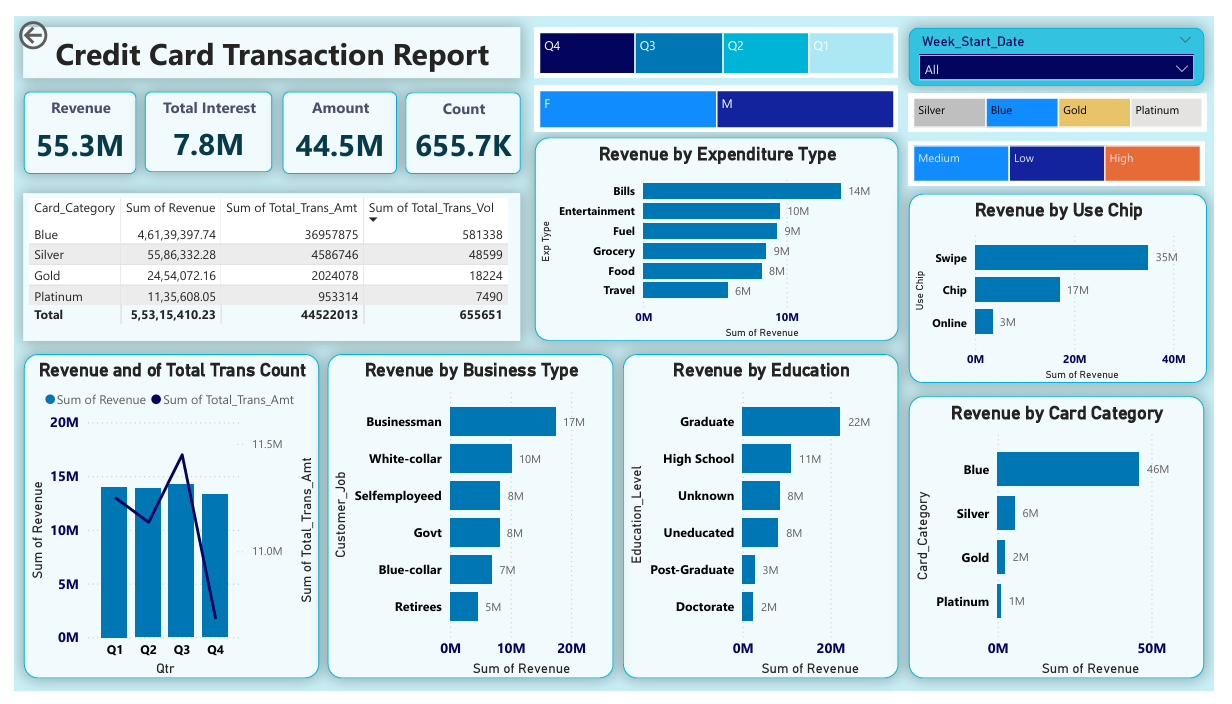

What the dashboard file says about the page in this screenshot:
{"tool":"powerbi","page":{"name":"Credit Card Transaction Report","canvas":[1280,720],"ordinal":1},"visuals":[{"type":"textbox","box":[9.7,12.1,530.8,54.3],"z":0},{"type":"lineStackedColumnComboChart","title":"Revenue and  of Total Trans Count","fields":{"Y2":["Sum(credit_card.Total_Trans_Amt)"],"Y":["Sum(credit_card.Revenue)"],"Category":["credit_card.Qtr"]},"box":[9.7,359.5,314.9,346.2],"z":1000},{"type":"clusteredBarChart","title":"Revenue by Expenditure Type","fields":{"Y":["Sum(credit_card.Revenue)"],"Category":["credit_card.Exp Type"]},"box":[555,129.1,388.5,217.2],"z":2000},{"type":"clusteredBarChart","title":"Revenue by Education","fields":{"Y":["Sum(credit_card.Revenue)"],"Category":["customer.Education_Level"]},"box":[649.1,359.5,294.4,346.2],"z":3000},{"type":"clusteredBarChart","title":"Revenue by Business Type","fields":{"Y":["Sum(credit_card.Revenue)"],"Category":["customer.Customer_Job"]},"box":[334.2,359.5,305.2,346.2],"z":4000},{"type":"clusteredBarChart","title":"Revenue by Card Category","fields":{"Y":["Sum(credit_card.Revenue)"],"Category":["credit_card.Card_Category"]},"box":[954.3,405.4,314.9,300.4],"z":5000},{"type":"clusteredBarChart","title":"Revenue by Use Chip","fields":{"Y":["Sum(credit_card.Revenue)"],"Category":["credit_card.Use Chip"]},"box":[954.3,189.4,317.3,201.5],"z":6000},{"type":"tableEx","fields":{"Values":["credit_card.Card_Category","Sum(credit_card.Revenue)","Sum(credit_card.Total_Trans_Amt)","Sum(credit_card.Total_Trans_Vol)"]},"box":[9.7,189.4,530.8,156.8],"z":7000},{"type":"actionButton","box":[0,0,100,40],"z":8000},{"type":"card","title":"Revenue","fields":{"Values":["Sum(credit_card.Revenue)"]},"box":[9.7,79.6,120.6,88.1],"z":9000},{"type":"card","title":"Total Interest","fields":{"Values":["Sum(credit_card.Interest_Earned)"]},"box":[138.7,79.6,136.3,86.9],"z":10000},{"type":"card","title":"Amount","fields":{"Values":["Sum(credit_card.Total_Trans_Amt)"]},"box":[285.9,79.6,121.9,88.1],"z":11000},{"type":"card","title":"Count","fields":{"Values":["Sum(credit_card.Total_Trans_Vol)"]},"box":[417.4,80.8,123.1,86.9],"z":12000},{"type":"slicer","fields":{"Values":["credit_card.Week_Start_Date"]},"box":[954.3,12.1,314.9,61.5],"z":13000},{"type":"treemap","fields":{"Values":["Avg(credit_card.Client_Num)"],"Group":["credit_card.Qtr"]},"box":[555,12.1,388.5,54.3],"z":14000},{"type":"treemap","fields":{"Values":["Avg(credit_card.Client_Num)"],"Group":["customer.Gender"]},"box":[555,73.6,388.5,50.7],"z":15000},{"type":"treemap","fields":{"Values":["Avg(credit_card.Client_Num)"],"Group":["credit_card.Card_Category"]},"box":[954.3,82,317.3,41],"z":16000},{"type":"treemap","fields":{"Values":["Avg(credit_card.Client_Num)"],"Group":["customer.Income_Group"]},"box":[954.3,132.7,316.1,48.3],"z":17000}]}

Visuals, with their boxes in screenshot pixels (x1, y1, x2, y2), scaled from the page's 1280x720 canvas onto the 1232x704 screenshot:
textbox: crop(9, 12, 520, 65)
"Revenue and  of Total Trans Count" lineStackedColumnComboChart: crop(9, 352, 312, 690)
"Revenue by Expenditure Type" clusteredBarChart: crop(534, 126, 908, 339)
"Revenue by Education" clusteredBarChart: crop(625, 352, 908, 690)
"Revenue by Business Type" clusteredBarChart: crop(322, 352, 615, 690)
"Revenue by Card Category" clusteredBarChart: crop(919, 396, 1222, 690)
"Revenue by Use Chip" clusteredBarChart: crop(919, 185, 1224, 382)
tableEx - credit_card.Card_Category x Sum(credit_card.Revenue): crop(9, 185, 520, 339)
actionButton: crop(0, 0, 96, 39)
"Revenue" card: crop(9, 78, 125, 164)
"Total Interest" card: crop(133, 78, 265, 163)
"Amount" card: crop(275, 78, 393, 164)
"Count" card: crop(402, 79, 520, 164)
slicer - credit_card.Week_Start_Date: crop(919, 12, 1222, 72)
treemap - Avg(credit_card.Client_Num) x credit_card.Qtr: crop(534, 12, 908, 65)
treemap - Avg(credit_card.Client_Num) x customer.Gender: crop(534, 72, 908, 122)
treemap - Avg(credit_card.Client_Num) x credit_card.Card_Category: crop(919, 80, 1224, 120)
treemap - Avg(credit_card.Client_Num) x customer.Income_Group: crop(919, 130, 1223, 177)
